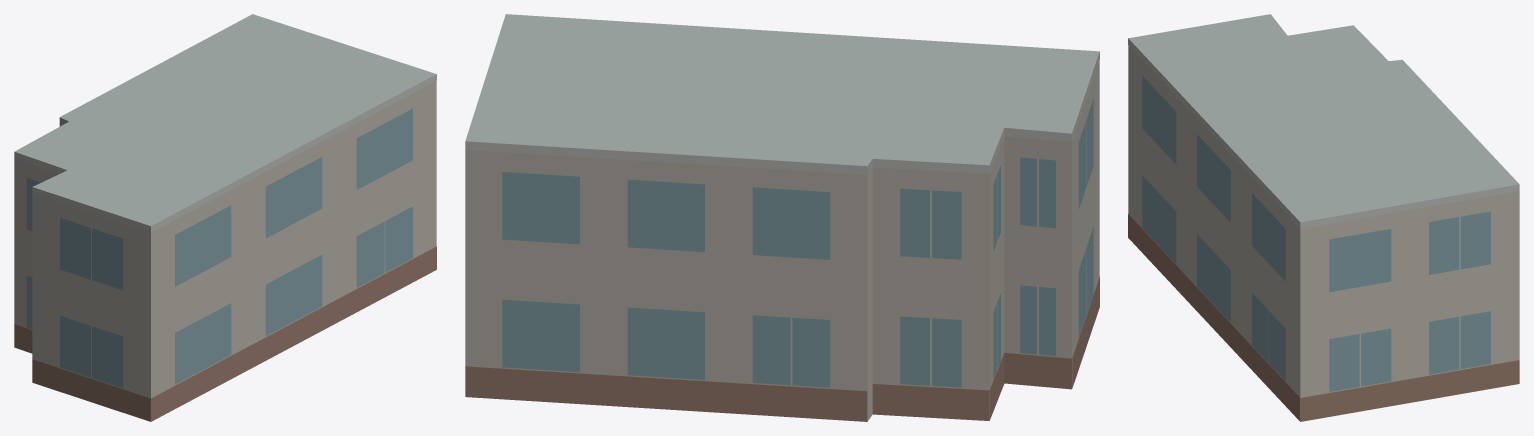
The model's file is survey-upis-32491434.glb.
3 views of the same model, side by side, from view 1: azimuth 30°, elevation 25°; view 2: azimuth 150°, elevation 25°; view 3: azimuth 270°, elevation 25° (orthographic). The views are drawn at different scales.
Visible parts, largest first — view 1: survey-upis-32491434.tmp; view 2: survey-upis-32491434.tmp; view 3: survey-upis-32491434.tmp.
Boxes of the visible parts, <box> form: survey-upis-32491434.tmp: <box>14,14,436,421</box>; survey-upis-32491434.tmp: <box>465,14,1099,421</box>; survey-upis-32491434.tmp: <box>1128,14,1519,421</box>.
Bounding box in the file's own units: 16.36 × 7.3 × 12.99.
